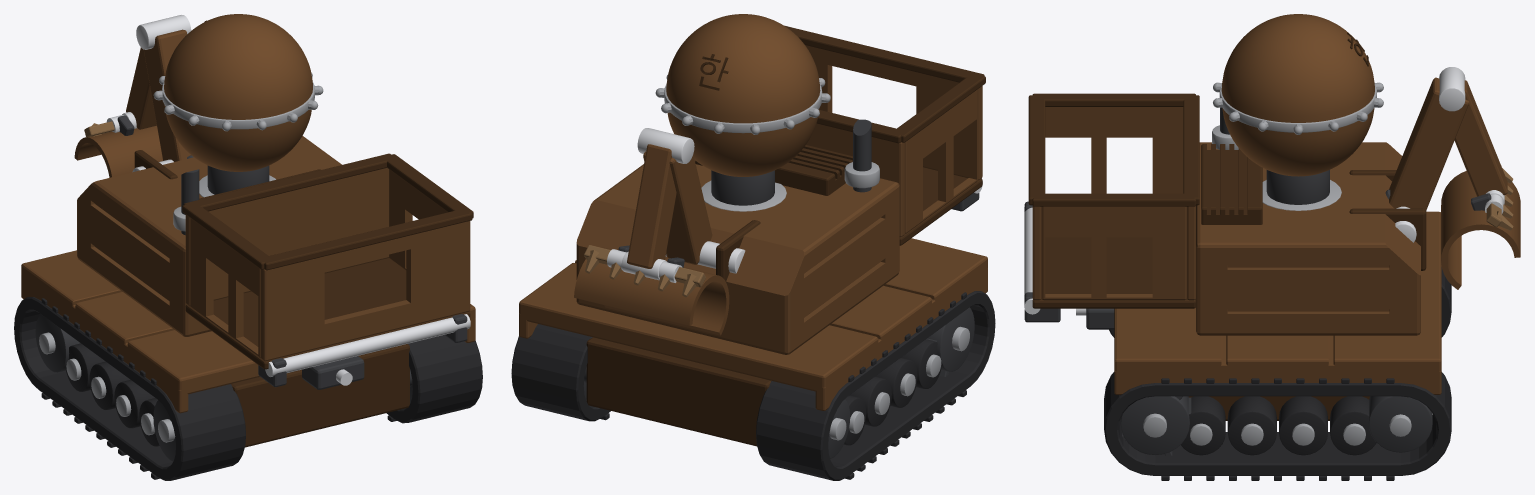
Rendered from han.glb.
The picture shows the model from 3 angles, left to right: view 1: azimuth 30°, elevation 25°; view 2: azimuth 150°, elevation 25°; view 3: azimuth 270°, elevation 25°; orthographic projection. The views are drawn at different scales.
Parts seen in each view (by area): view 1: HAN_Hopper, CORE_han_Shell, HAN_Hull, HAN_Track_R, HAN_Fender, HAN_Frame, HAN_Track_L, HAN_Arm_Boom, HAN_Bucket, HAN_Idler_R, HAN_Arm_Stick, HAN_Hitch (+8 smaller); view 2: HAN_Hull, HAN_Fender, CORE_han_Shell, HAN_Hopper, HAN_Track_R, HAN_Frame, HAN_Bucket, HAN_Track_L, HAN_Arm_Stick, HAN_Arm_Boom, HAN_Neck, HAN_Sprocket_R (+8 smaller); view 3: HAN_Hull, HAN_Hopper, HAN_Fender, CORE_han_Shell, HAN_Track_L, HAN_Arm_Boom, HAN_Bucket, HAN_Sprocket_L, HAN_Idler_L, HAN_Arm_Stick, HAN_Neck, HAN_Wheel_L1 (+8 smaller).
Part boxes in pixels (x1=…): HAN_Hopper: x1=182, y1=153, x2=473, y2=387; CORE_han_Shell: x1=153, y1=14, x2=323, y2=171; HAN_Hull: x1=77, y1=136, x2=341, y2=336; HAN_Track_R: x1=14, y1=297, x2=245, y2=480; HAN_Fender: x1=21, y1=250, x2=475, y2=413; HAN_Frame: x1=231, y1=344, x2=412, y2=447; HAN_Track_L: x1=386, y1=335, x2=482, y2=423; HAN_Arm_Boom: x1=136, y1=15, x2=191, y2=161; HAN_Bucket: x1=74, y1=114, x2=162, y2=177; HAN_Idler_R: x1=35, y1=314, x2=80, y2=372; HAN_Arm_Stick: x1=122, y1=47, x2=156, y2=129; HAN_Hitch: x1=302, y1=356, x2=364, y2=389; HAN_Hull: x1=576, y1=145, x2=899, y2=354; HAN_Fender: x1=519, y1=238, x2=987, y2=410; CORE_han_Shell: x1=655, y1=14, x2=830, y2=176; HAN_Hopper: x1=784, y1=25, x2=985, y2=245; HAN_Track_R: x1=756, y1=291, x2=995, y2=480; HAN_Frame: x1=584, y1=337, x2=771, y2=446; HAN_Bucket: x1=574, y1=245, x2=729, y2=335; HAN_Track_L: x1=511, y1=324, x2=610, y2=421; HAN_Arm_Stick: x1=621, y1=144, x2=676, y2=280; HAN_Arm_Boom: x1=637, y1=128, x2=712, y2=264; HAN_Neck: x1=701, y1=170, x2=786, y2=211; HAN_Sprocket_R: x1=926, y1=307, x2=974, y2=376; HAN_Hull: x1=1196, y1=142, x2=1420, y2=335; HAN_Hopper: x1=1024, y1=93, x2=1199, y2=322; HAN_Fender: x1=1114, y1=211, x2=1441, y2=394; CORE_han_Shell: x1=1213, y1=14, x2=1383, y2=176; HAN_Track_L: x1=1104, y1=372, x2=1451, y2=480; HAN_Arm_Boom: x1=1389, y1=67, x2=1468, y2=210; HAN_Bucket: x1=1441, y1=171, x2=1520, y2=289; HAN_Sprocket_L: x1=1120, y1=396, x2=1191, y2=455; HAN_Idler_L: x1=1368, y1=396, x2=1432, y2=452; HAN_Arm_Stick: x1=1454, y1=80, x2=1507, y2=204; HAN_Neck: x1=1262, y1=170, x2=1341, y2=210; HAN_Wheel_L1: x1=1227, y1=396, x2=1276, y2=455.
Bounding box in the file's own units: 0.7 × 0.83 × 0.9707.
